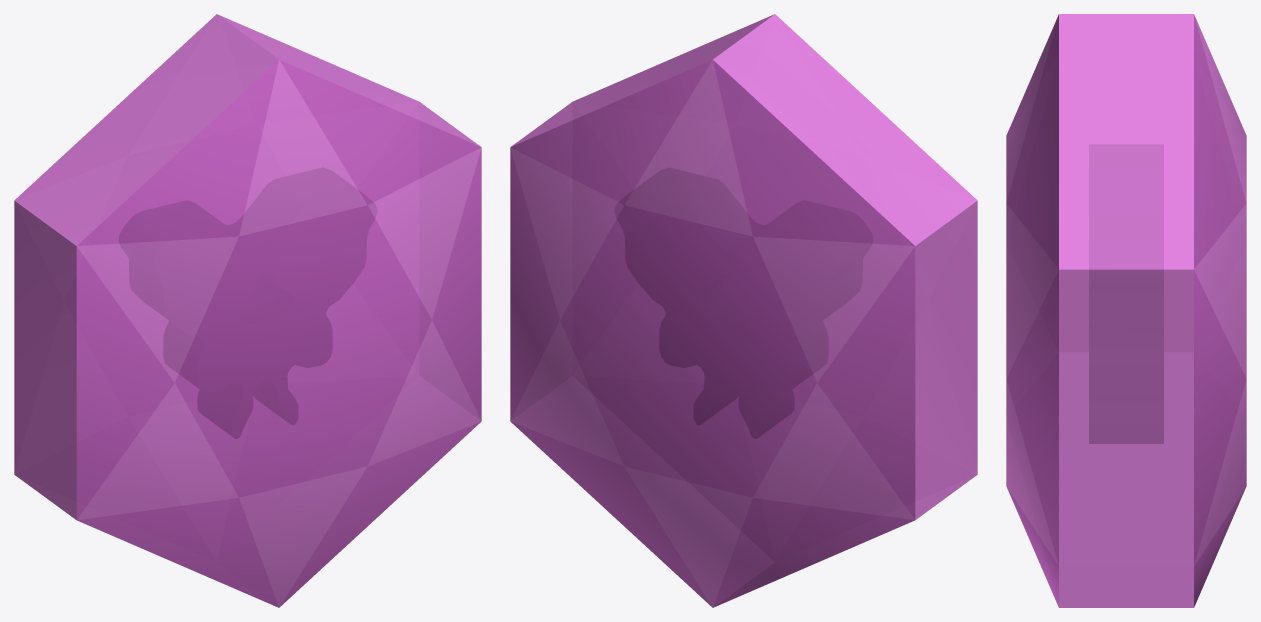
3 views of the same model, side by side, from view 1: azimuth 30°, elevation 25°; view 2: azimuth 150°, elevation 25°; view 3: azimuth 270°, elevation 25° (orthographic). The views are drawn at different scales.
Parts seen in each view (by area): view 1: body; view 2: body; view 3: body.
Part boxes in pixels (x1,y1,x2,y2): body: (14,14,481,607); body: (510,14,977,607); body: (1006,14,1246,607).
Bounding box in the file's own units: 0.1933 × 0.25 × 0.0916.
2 materials, 2 textured.
